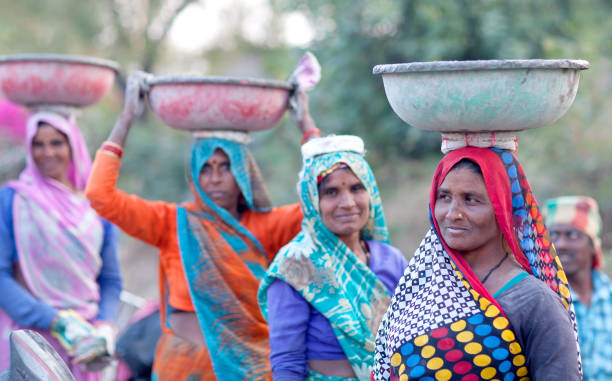women: (432, 145, 539, 267), (299, 128, 388, 240), (173, 130, 261, 226), (26, 109, 84, 185)
